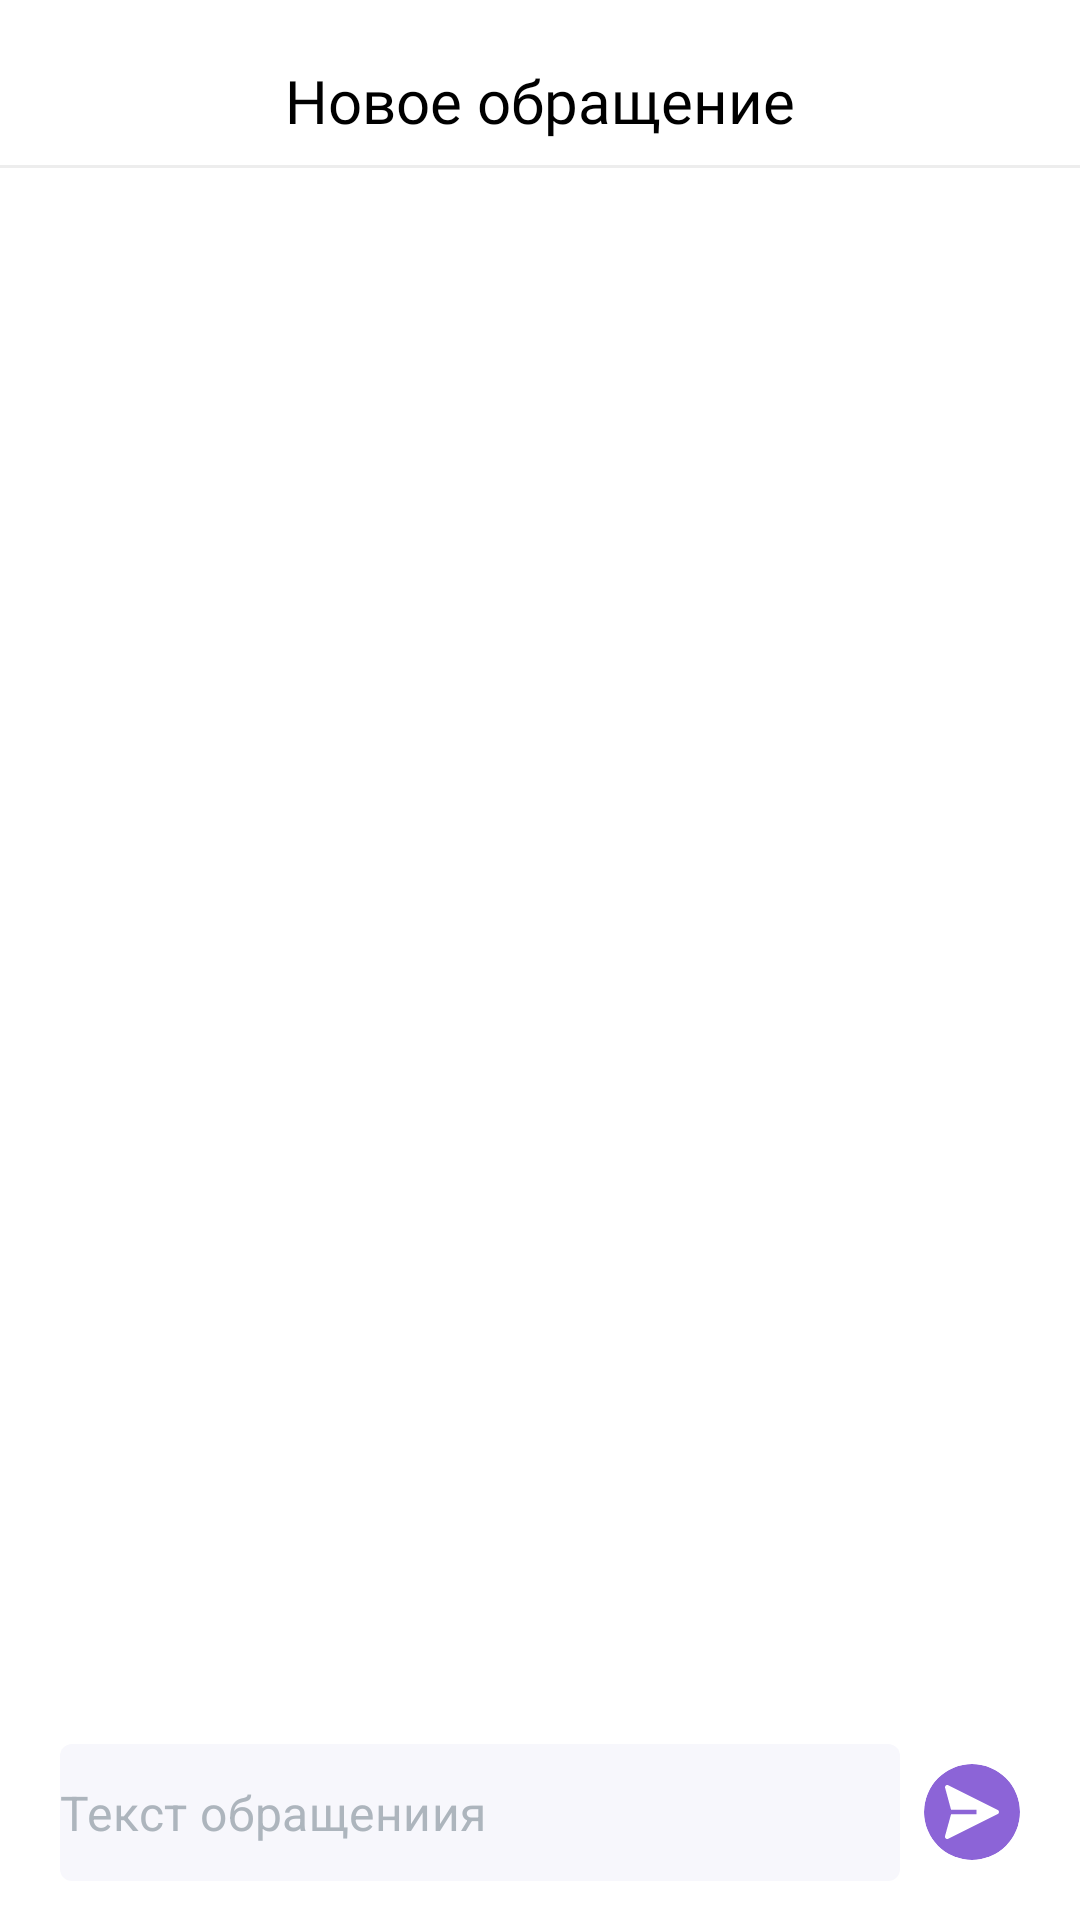

Named icons in this screenshot (1080x1920) and their centers, point (x, y):
send message: point (972, 1812)
